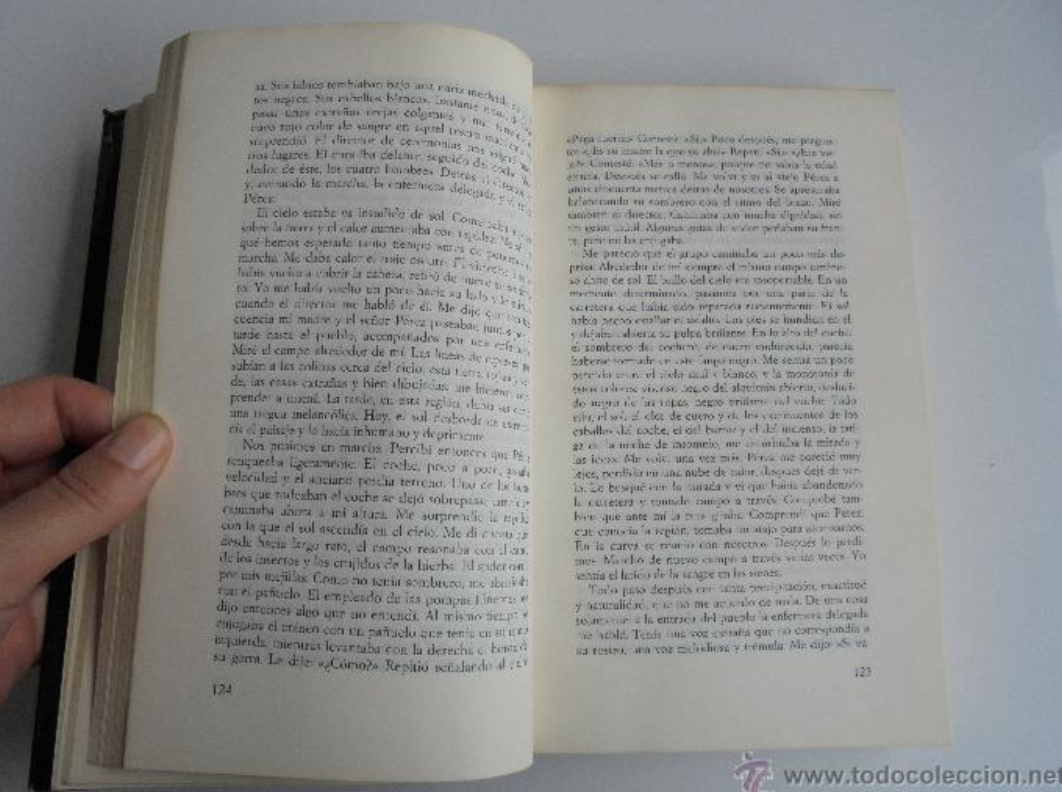book: (67, 23, 969, 792)
